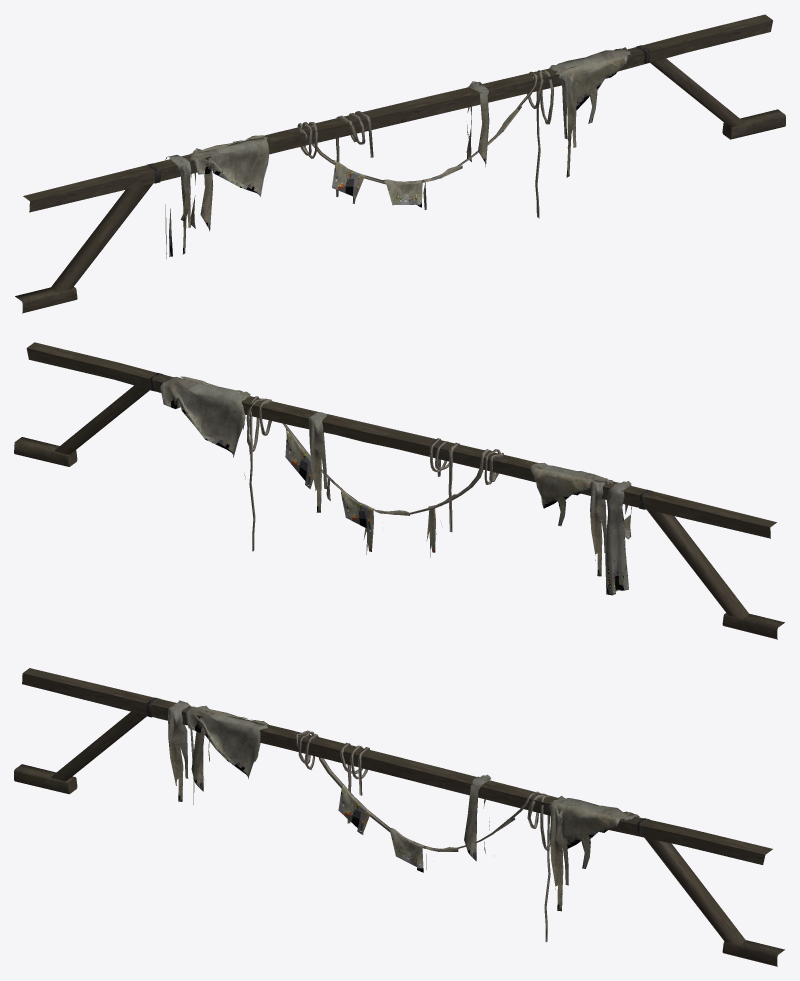
Rendered from AEG023_372out-transformed.glb.
The picture shows the model from 3 angles, top to bottom: view 1: azimuth 30°, elevation 25°; view 2: azimuth 150°, elevation 25°; view 3: azimuth 330°, elevation 25°; orthographic projection.
Visible parts, largest first — view 1: default; view 2: default; view 3: default.
Boxes of the visible parts, left/top/right/bottom form: default: left=15, top=14, right=785, bottom=313; default: left=14, top=342, right=784, bottom=639; default: left=14, top=668, right=784, bottom=966.
Size of the model in its own units: 8.64 by 1.67 by 0.3829.
Materials: 3 (3 with a texture image).
